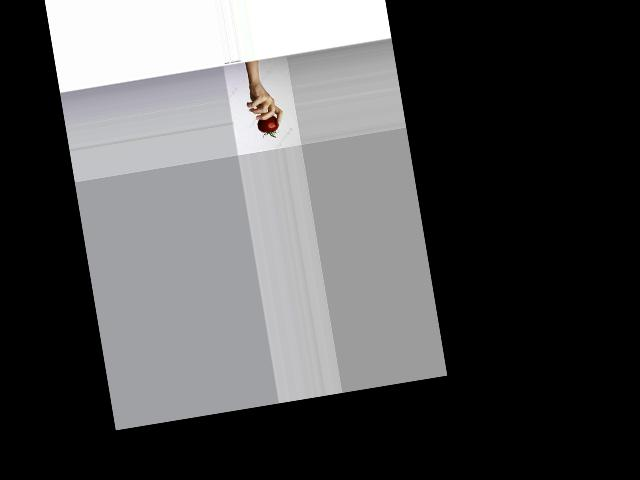tomato: (256, 115, 279, 140)
